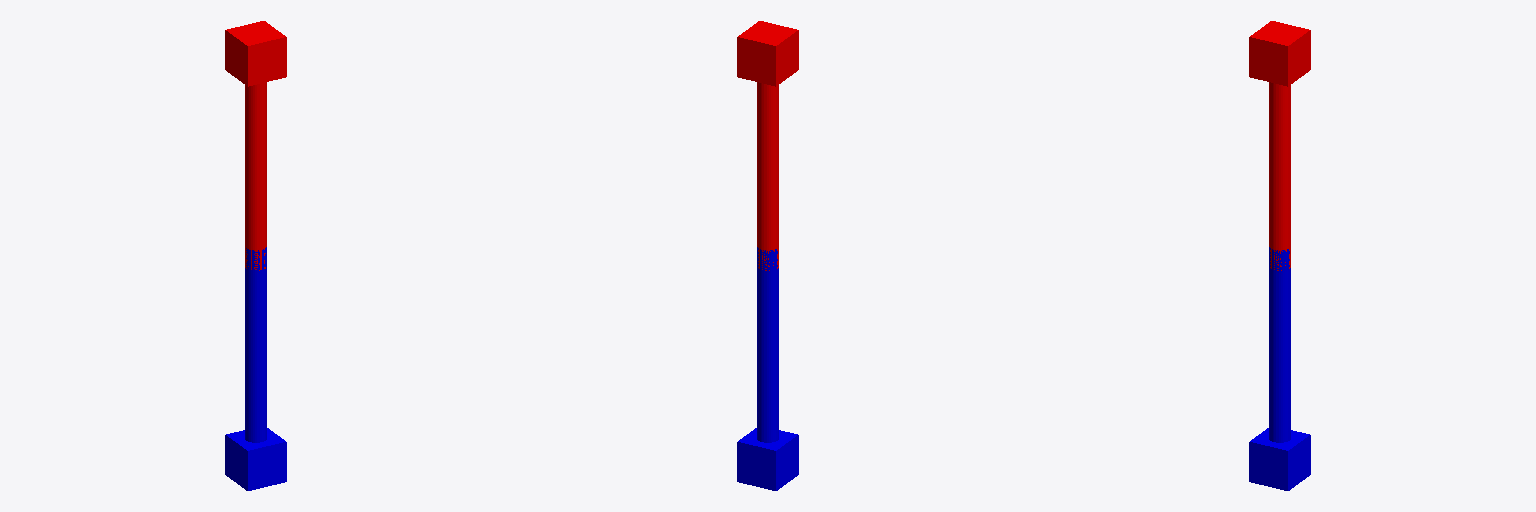
robot.urdf — AcrobotSymmetric2:
<?xml version="1.0"?>

<robot name="AcrobotSymmetric2">

  <link name="base_link">
    <inertial>
      <origin xyz="0 0 0" rpy="0 0 0" />
      <mass value="2" />
      <inertia ixx="1" ixy="0" ixz="0" iyy="1" iyz="0" izz="1" />
    </inertial>
    <visual>
      <geometry>
         <box size=".2 .2 .2" />
      </geometry>
      <material name="red">
	<color rgba="1 0 0 1" />
      </material>
    </visual>
  </link>

  <link name="end_link">
    <inertial>
      <origin xyz="0 0 0" rpy="0 0 0" />
      <mass value="2" />
      <inertia ixx="1" ixy="0" ixz="0" iyy="1" iyz="0" izz="1" />
    </inertial>
    <visual>
      <geometry>
         <box size=".2 .2 .2" />
      </geometry>
      <material name="green">
	<color rgba="0 0 1 0" />
      </material>
    </visual>
  </link>


  <link name="upper_link">
    <inertial>
      <origin xyz="0 0 .5" rpy="0 0 0" />
      <mass value="1" />
      <inertia ixx="1" ixy="0" ixz="0" iyy="0.083" iyz="0" izz="1" />
    </inertial>
    <visual>
      <origin xyz="0 0 .5" rpy="0 0 0" />
      <geometry>
         <cylinder length="1.1" radius=".05" />
      </geometry>
      <material name="red">
	<color rgba="1 0 0 1" />
      </material>
    </visual>
  </link>

  <link name="lower_link">
    <inertial>
      <origin xyz="0 0 .5" rpy="0 0 0" />
      <mass value="1" />
      <inertia ixx="1" ixy="0" ixz="0" iyy="0.083" iyz="0" izz="1" />
    </inertial>
    <visual>
      <origin xyz="0 0 .5" rpy="0 0 0" />
      <geometry>
         <cylinder length="1.1" radius=".05" />
      </geometry>
      <material name="blue">
	<color rgba="0 0 1 1" />
      </material>
    </visual>
  </link>

 <joint name="shoulder" type="continuous">
    <parent link="end_link" />
    <child link="lower_link" />
    <origin xyz="0 0 0" />
    <axis xyz="0 1 0" />
    <dynamics damping="0.1" />
  </joint>
  
  <joint name="elbow" type="continuous">
    <parent link="lower_link" />
    <child link="upper_link" />
    <origin xyz="0 0 1" />
    <axis xyz="0 1 0" />
    <dynamics damping="0.1" />
  </joint>

  <joint name="end_link" type="continuous">
    <parent link="upper_link" />
    <child link="base_link" />
    <origin xyz="0 0 1" />
    <axis xyz="0 1 0" />
    <dynamics damping="0.1" />
  </joint>

 



  <transmission type="SimpleTransmission" name="elbow_trans">
    <actuator name="elbow_torque" />
    <joint name="elbow" />
    <mechanicalReduction>1</mechanicalReduction>
  </transmission>
</robot>

--- Render facts (derived) ---
The picture shows the robot from 3 angles, left to right: view 1: azimuth 30°, elevation 25°; view 2: azimuth 150°, elevation 25°; view 3: azimuth 330°, elevation 25°; orthographic projection.
Robot: AcrobotSymmetric2 — 4 links, 3 joints (3 continuous); root link end_link; default pose: every joint at zero.
Links seen in each view (by area): view 1: lower_link, upper_link, base_link, end_link; view 2: lower_link, upper_link, base_link, end_link; view 3: lower_link, upper_link, base_link, end_link.
Link boxes in pixels (x1,y1,x2,y2): lower_link: [245, 247, 266, 442]; upper_link: [245, 82, 266, 270]; base_link: [225, 21, 286, 86]; end_link: [225, 428, 286, 490]; lower_link: [757, 247, 778, 442]; upper_link: [757, 82, 778, 270]; base_link: [737, 21, 798, 86]; end_link: [737, 428, 798, 490]; lower_link: [1269, 247, 1290, 442]; upper_link: [1269, 82, 1290, 270]; base_link: [1249, 21, 1310, 86]; end_link: [1249, 428, 1310, 490].
Bounding box of the posed robot: 0.2 × 0.2 × 2.2 m (x, y, z).
Geometry: primitives only (box / cylinder / sphere), no mesh files.